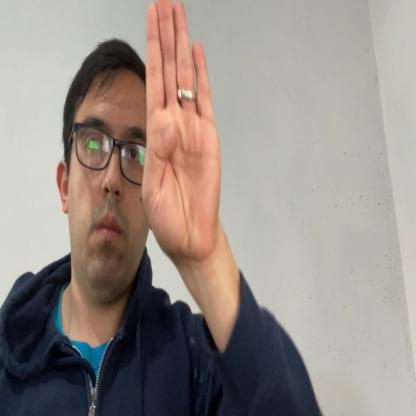B: (141, 0, 221, 259)
